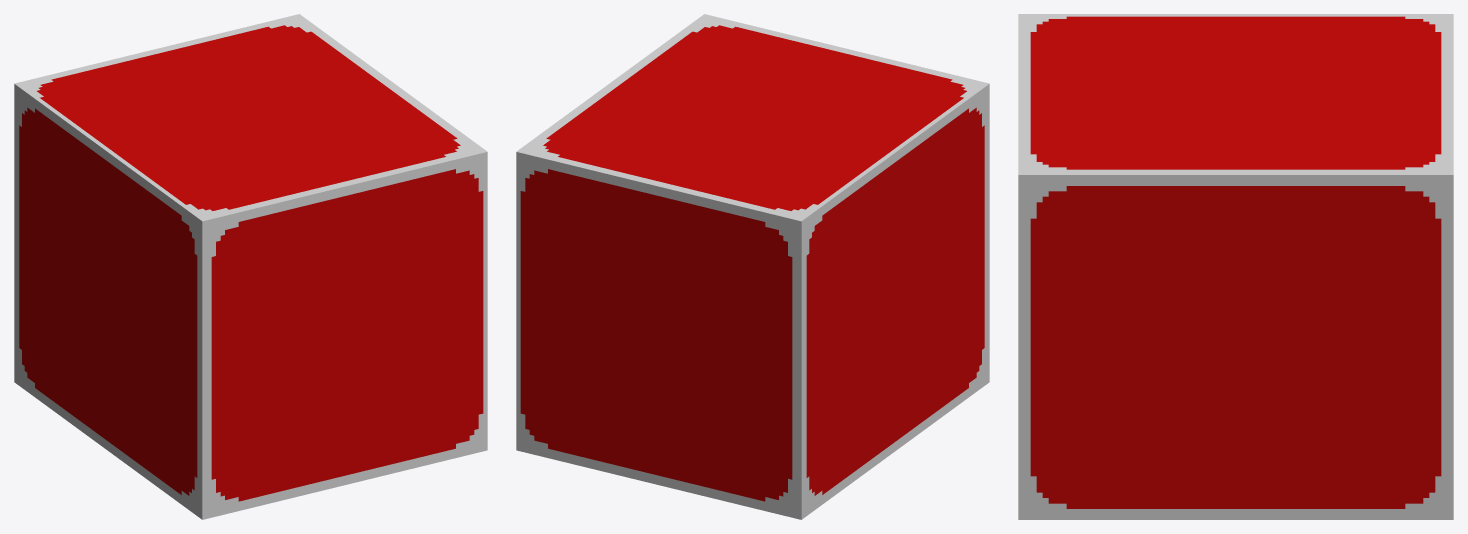
File: house_simple_red_cube.glb
3 renders of one model, left to right at view 1: azimuth 30°, elevation 25°; view 2: azimuth 150°, elevation 25°; view 3: azimuth 270°, elevation 25°, orthographic. The views are drawn at different scales.
Visible parts, largest first — view 1: house_simple_red_cube.001; view 2: house_simple_red_cube.001; view 3: house_simple_red_cube.001.
Boxes of the visible parts, x1,y1,x2,y2 form: house_simple_red_cube.001: (14,14,487,519); house_simple_red_cube.001: (516,14,989,519); house_simple_red_cube.001: (1018,14,1453,519).
Bounding box in the file's own units: 6.3 × 6.3 × 7.2.
Materials: 1 (1 with a texture image).
